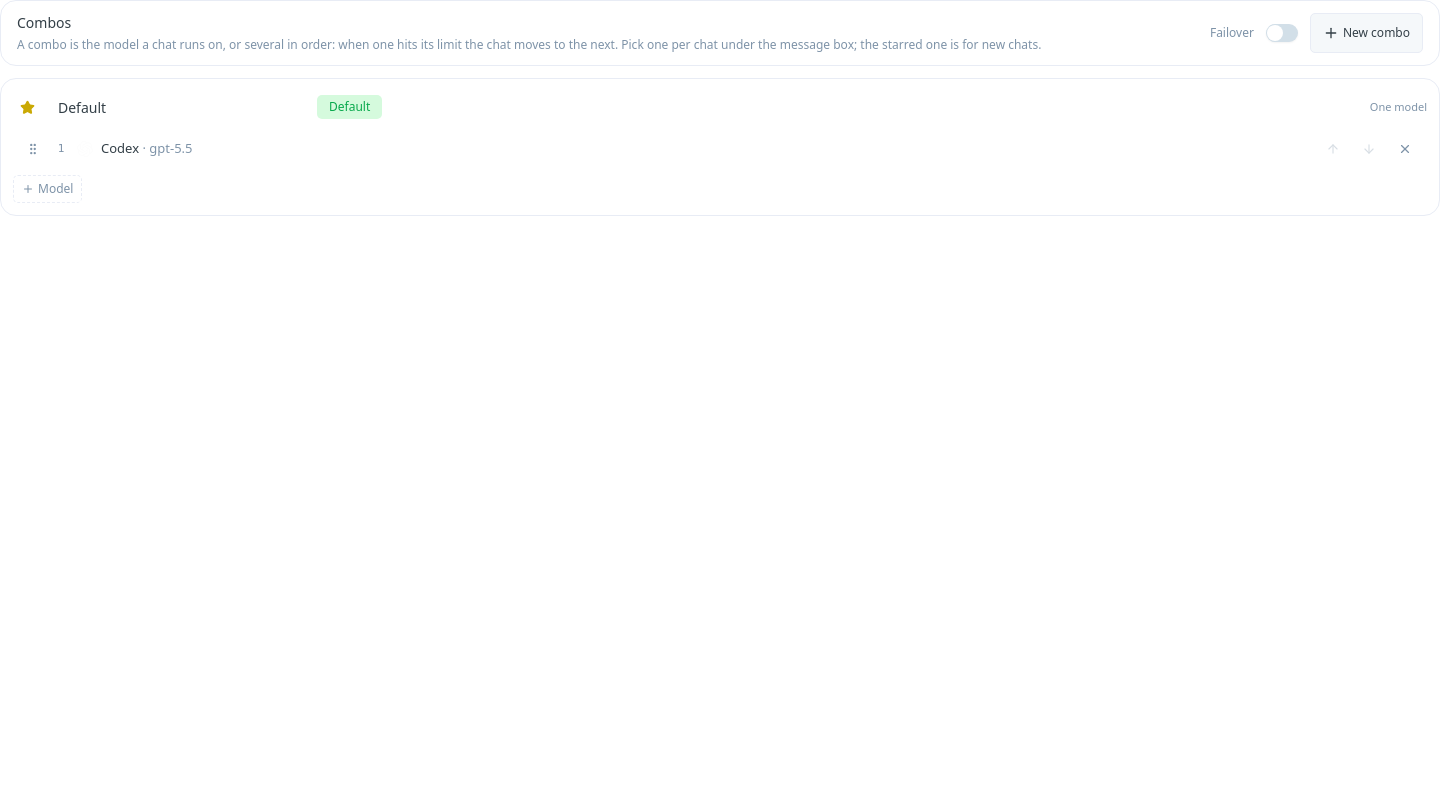
Test case: Codex: the account's own model list › offers only models the account has and the adapter can run, and hides the others
This screenshot has width=1440, height=810.
Click the button "Model".
click(48, 189)  # box x1=13 y1=175 x2=82 y2=203
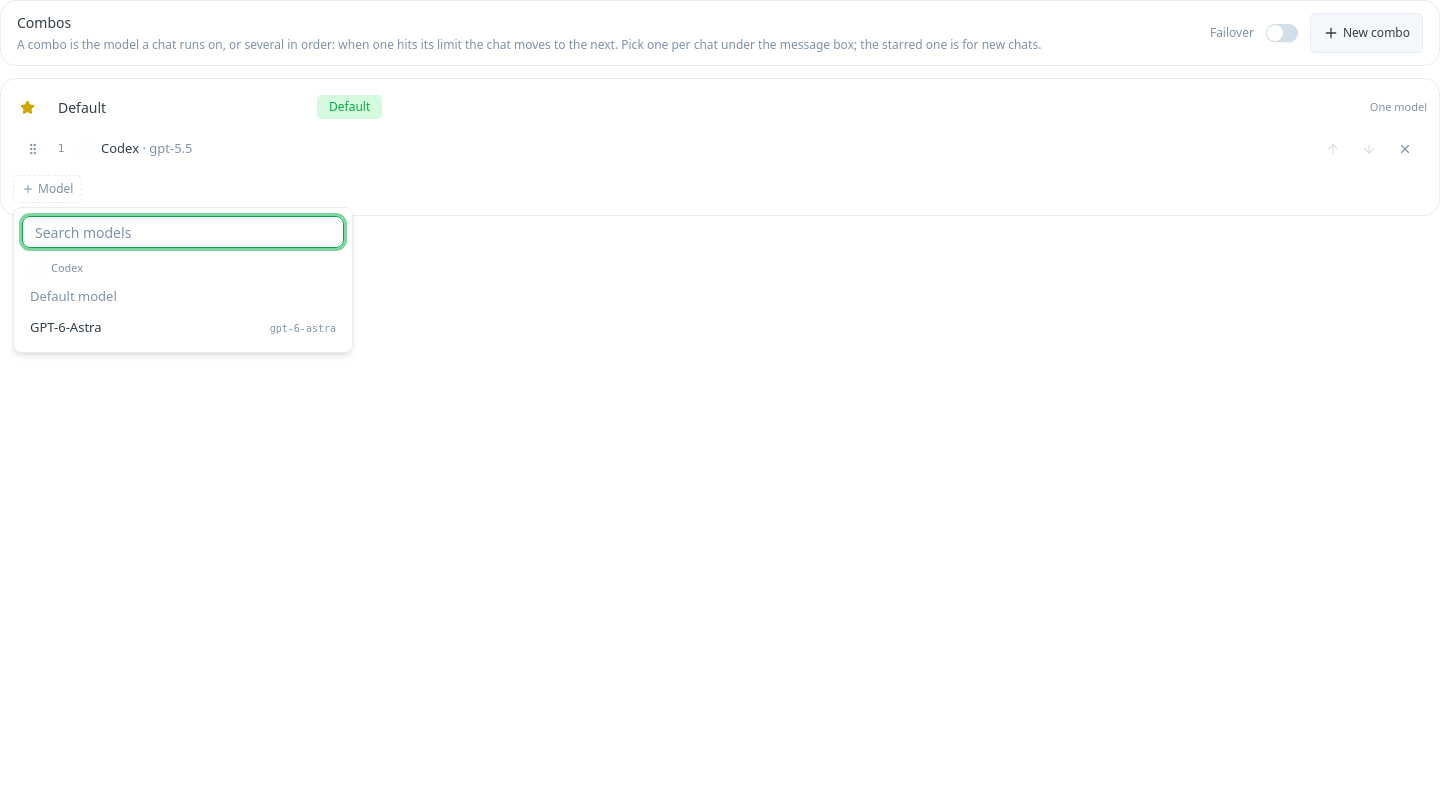
Now the button "GPT-6-Astra gpt-6-astra" is shown, box x1=22 y1=312 x2=344 y2=344
